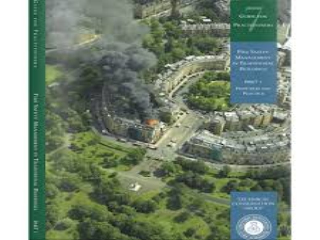smoke: (80, 24, 171, 131)
